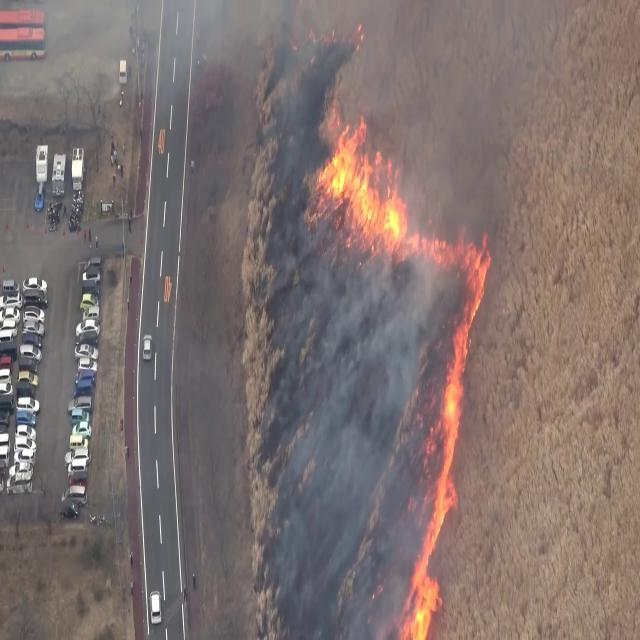Fire: (397, 225, 491, 634), (299, 96, 412, 252)
